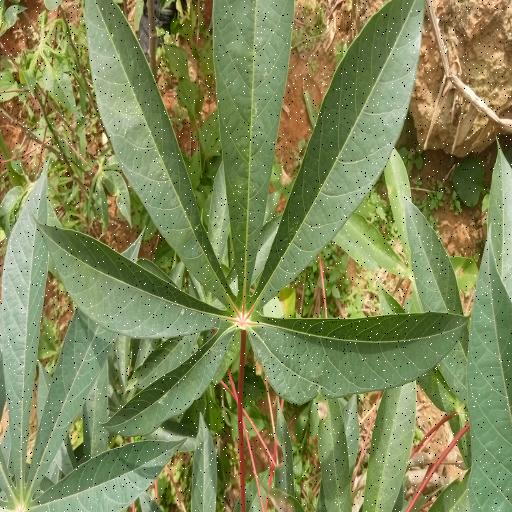Cassava_Healthy: (38, 0, 472, 437)
